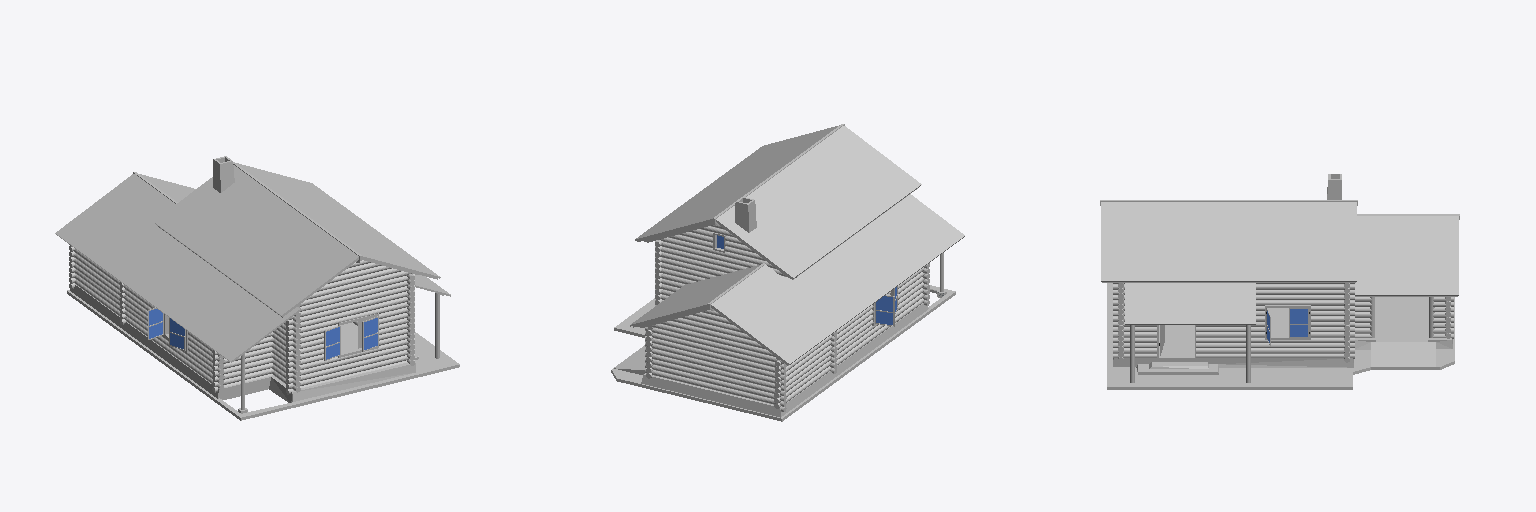
The model's file is cabin.obj.
3 views of the same model, side by side, from view 1: azimuth 30°, elevation 25°; view 2: azimuth 150°, elevation 25°; view 3: azimuth 270°, elevation 25° (orthographic).
Parts seen in each view (by area): view 1: group_0.636_ID999, group_0.714_ID1588, group_0.022_ID190, group_0.716_ID1602, group_0.620_ID877, group_0.619_ID869, group_0.739_ID1782, group_0.010_ID98, group_0.959_ID3451, group_0.613_ID823, group_0.743_ID1814, group_0.028_ID256 (+6 smaller); view 2: group_0.636_ID999, group_0.714_ID1588, group_0.022_ID190, group_0.716_ID1602, group_0.639_ID1023, group_0.057_ID475, group_0.660_ID1188, group_0.739_ID1782, group_0.613_ID823, group_0.049_ID411, group_0.683_ID1360, group_0.680_ID1336 (+9 smaller); view 3: group_0.716_ID1602, group_0.022_ID190, group_0.639_ID1023, group_0.957_ID3437, group_0.959_ID3451, group_0.688_ID1396, group_0.691_ID1420, group_0.041_ID353, group_0.742_ID1806, group_0.790_ID2171, group_0.689_ID1404, group_0.701_ID1492 (+1 smaller).
Boxes of the visible parts, x1,y1,x2,y2 form: group_0.636_ID999: [55, 174, 300, 362]; group_0.714_ID1588: [154, 165, 358, 316]; group_0.022_ID190: [67, 285, 459, 420]; group_0.716_ID1602: [236, 163, 440, 278]; group_0.620_ID877: [288, 290, 414, 335]; group_0.619_ID869: [288, 322, 414, 377]; group_0.739_ID1782: [74, 270, 220, 382]; group_0.010_ID98: [272, 315, 299, 390]; group_0.959_ID3451: [75, 284, 409, 392]; group_0.613_ID823: [74, 249, 154, 310]; group_0.743_ID1814: [75, 280, 220, 389]; group_0.028_ID256: [213, 156, 234, 192]; group_0.636_ID999: [711, 194, 964, 364]; group_0.714_ID1588: [716, 126, 921, 278]; group_0.022_ID190: [611, 285, 955, 421]; group_0.716_ID1602: [635, 125, 839, 240]; group_0.639_ID1023: [630, 265, 759, 326]; group_0.057_ID475: [645, 364, 784, 411]; group_0.660_ID1188: [645, 336, 784, 379]; group_0.739_ID1782: [777, 282, 924, 402]; group_0.613_ID823: [778, 305, 873, 380]; group_0.049_ID411: [655, 251, 736, 275]; group_0.683_ID1360: [645, 358, 784, 395]; group_0.680_ID1336: [645, 348, 783, 385]; group_0.716_ID1602: [1101, 202, 1356, 281]; group_0.022_ID190: [1107, 283, 1454, 389]; group_0.639_ID1023: [1355, 216, 1458, 295]; group_0.957_ID3437: [1125, 283, 1255, 324]; group_0.959_ID3451: [1159, 297, 1451, 357]; group_0.688_ID1396: [1256, 295, 1354, 321]; group_0.691_ID1420: [1113, 295, 1156, 358]; group_0.041_ID353: [1355, 297, 1453, 338]; group_0.742_ID1806: [1196, 348, 1354, 353]; group_0.790_ID2171: [1196, 343, 1354, 347]; group_0.689_ID1404: [1113, 283, 1354, 289]; group_0.701_ID1492: [1196, 338, 1354, 342].
Bounding box in the file's own units: 8.1 × 5.06 × 10.77.